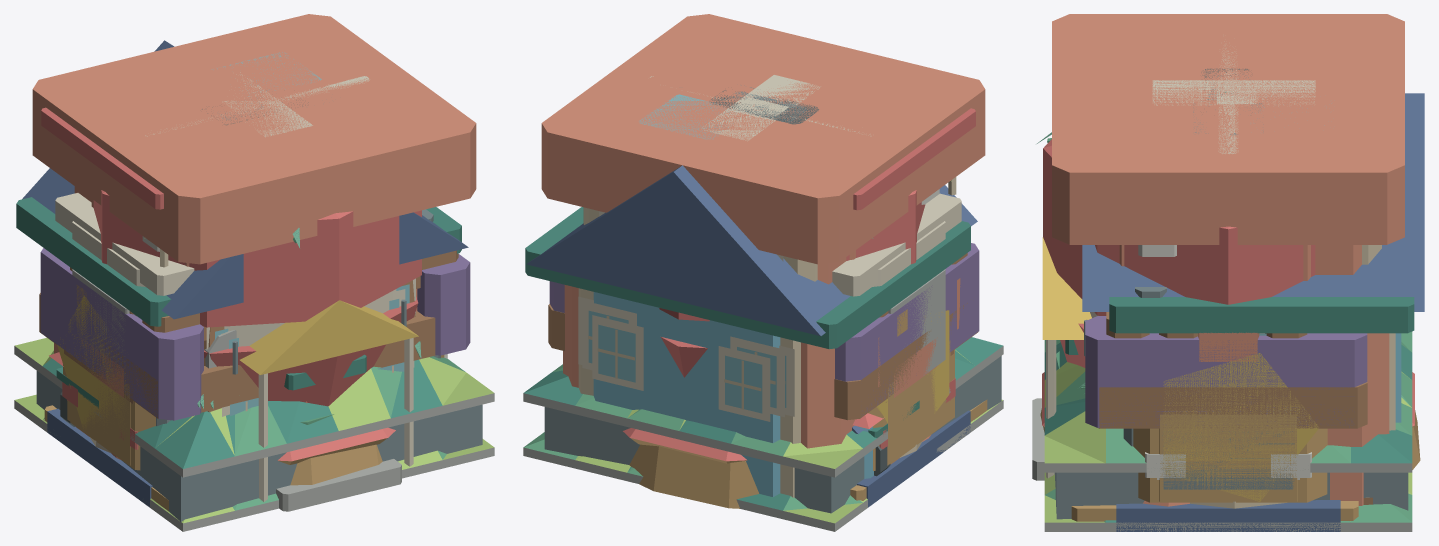
File: toy-town-source.glb
3 renders of one model, left to right at view 1: azimuth 30°, elevation 25°; view 2: azimuth 150°, elevation 25°; view 3: azimuth 270°, elevation 25°, orthographic. The views are drawn at different scales.
Visible parts, largest first — view 1: pickup_10_0, pickup_49_0, pickup_24_0, pickup_02_0, pickup_15_2, pickup_13_0, pickup_15_0, pickup_27_0, pickup_49_2, pickup_17_0, pickup_18_0, pickup_00_0 (+16 smaller); view 2: pickup_10_0, pickup_15_0, pickup_28_0, pickup_15_1, pickup_49_0, pickup_15_2, pickup_13_0, pickup_24_0, pickup_27_0, pickup_41_1, pickup_17_0, pickup_46_0 (+17 smaller); view 3: pickup_10_0, pickup_15_2, pickup_24_0, pickup_13_0, pickup_49_0, pickup_15_0, pickup_02_0, pickup_17_0, pickup_14_0, pickup_00_0, pickup_19_0, pickup_40_0 (+14 smaller).
Part boxes in pixels (box(x1,y1,x2,y2)): pickup_10_0: box(32, 14, 476, 412); pickup_49_0: box(14, 338, 494, 521); pickup_24_0: box(40, 186, 470, 420); pickup_02_0: box(93, 190, 421, 327); pickup_15_2: box(16, 197, 461, 501); pickup_13_0: box(91, 45, 401, 207); pickup_15_0: box(22, 40, 468, 511); pickup_27_0: box(41, 107, 236, 426); pickup_49_2: box(235, 366, 401, 456); pickup_17_0: box(39, 209, 458, 426); pickup_18_0: box(204, 289, 418, 406); pickup_00_0: box(57, 295, 128, 428); pickup_10_0: box(541, 14, 985, 264); pickup_15_0: box(526, 165, 977, 497); pickup_28_0: box(587, 38, 932, 178); pickup_15_1: box(592, 292, 780, 496); pickup_49_0: box(523, 346, 1003, 513); pickup_15_2: box(525, 207, 970, 448); pickup_13_0: box(601, 56, 910, 259); pickup_24_0: box(549, 207, 979, 414); pickup_27_0: box(832, 108, 975, 476); pickup_41_1: box(629, 444, 759, 508); pickup_17_0: box(548, 253, 977, 420); pickup_46_0: box(872, 221, 945, 375); pickup_10_0: box(1052, 14, 1404, 244); pickup_15_2: box(1042, 237, 1414, 505); pickup_24_0: box(1085, 245, 1367, 427); pickup_13_0: box(1159, 26, 1331, 280); pickup_49_0: box(1044, 331, 1412, 519); pickup_15_0: box(1032, 93, 1424, 480); pickup_02_0: box(1043, 139, 1315, 315); pickup_17_0: box(1098, 287, 1367, 446); pickup_14_0: box(1157, 414, 1299, 501); pickup_00_0: box(1163, 353, 1318, 501); pickup_19_0: box(1116, 500, 1340, 531); pickup_40_0: box(1044, 495, 1412, 531).
Bounding box in the file's own units: 1 × 1 × 1.
